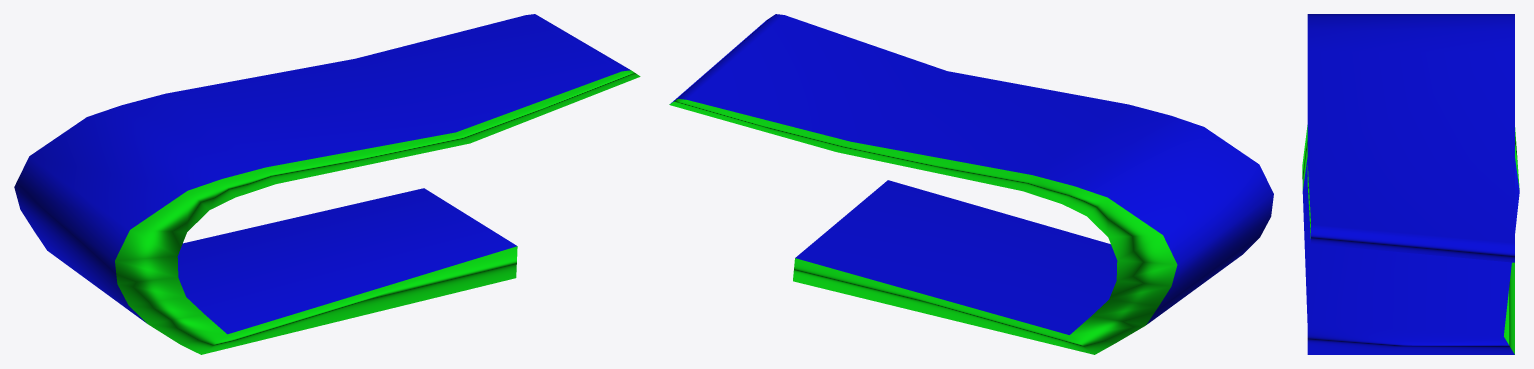
Rendered from SM_SM_DesignDesk.fbx.
3 views of the same model, side by side, from view 1: azimuth 30°, elevation 25°; view 2: azimuth 150°, elevation 25°; view 3: azimuth 270°, elevation 25° (orthographic). The views are drawn at different scales.
Parts seen in each view (by area): view 1: SHELF.005; view 2: SHELF.005; view 3: SHELF.005.
Part boxes in pixels (box(x1,y1,x2,y2)): SHELF.005: box(14, 14, 640, 354); SHELF.005: box(669, 14, 1273, 354); SHELF.005: box(1302, 14, 1519, 354).
Bounding box in the file's own units: 191 × 65.93 × 61.76.
